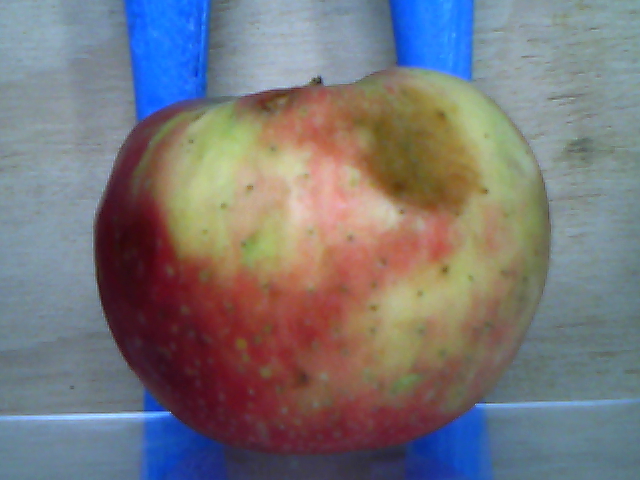bruise: (363, 86, 484, 214)
